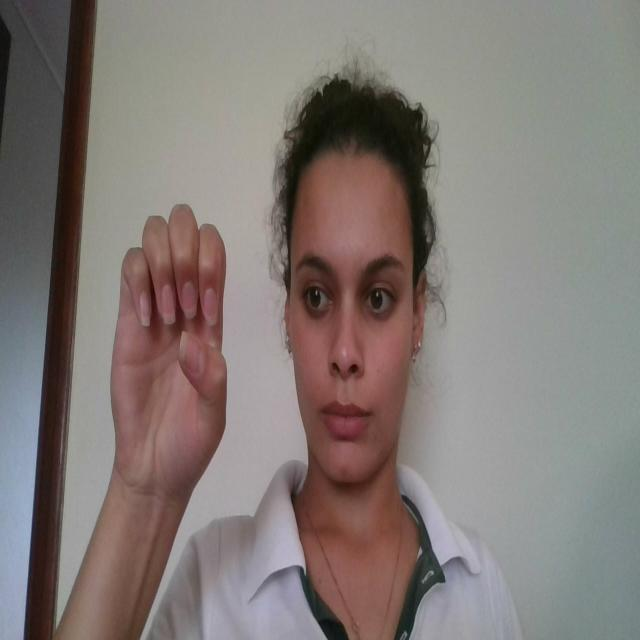E: (106, 199, 232, 478)
